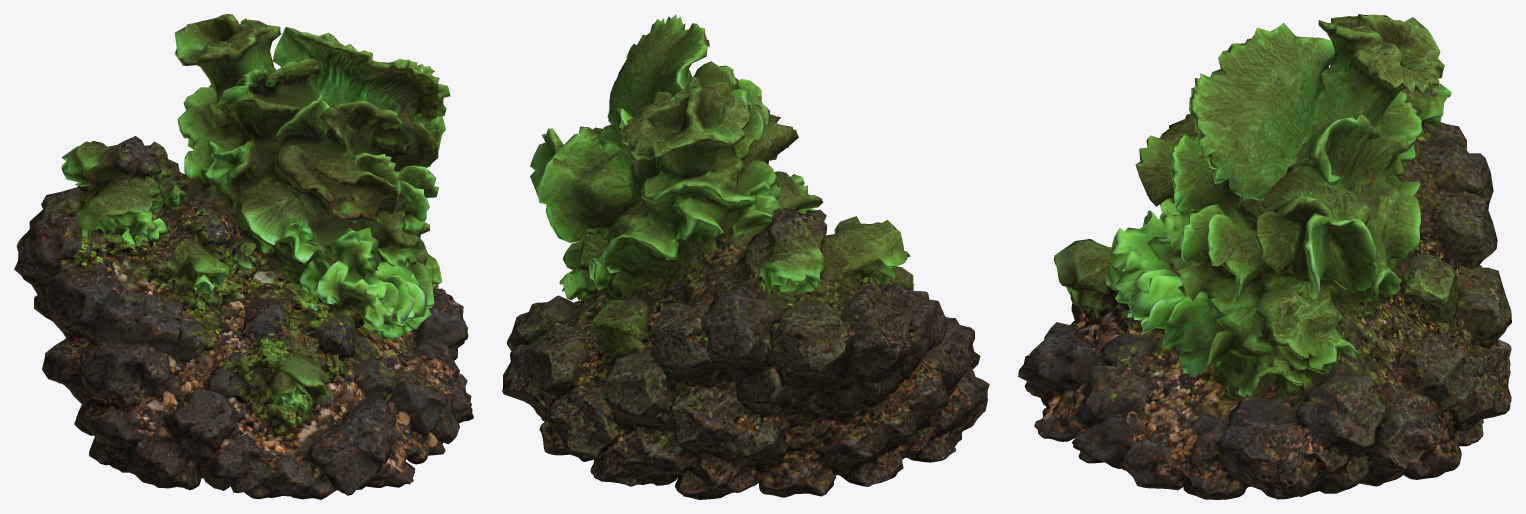
File: fungus.glb
3 renders of one model, left to right at view 1: azimuth 30°, elevation 25°; view 2: azimuth 150°, elevation 25°; view 3: azimuth 270°, elevation 25°, orthographic. The views are drawn at different scales.
Visible parts, largest first — view 1: tripo_node_480b64cd-11a0-45d5-8408-963ef7dd244e; view 2: tripo_node_480b64cd-11a0-45d5-8408-963ef7dd244e; view 3: tripo_node_480b64cd-11a0-45d5-8408-963ef7dd244e.
Boxes of the visible parts, bbox=[...] form: tripo_node_480b64cd-11a0-45d5-8408-963ef7dd244e: bbox=[14, 14, 473, 499]; tripo_node_480b64cd-11a0-45d5-8408-963ef7dd244e: bbox=[502, 14, 989, 499]; tripo_node_480b64cd-11a0-45d5-8408-963ef7dd244e: bbox=[1018, 14, 1511, 499].
Bounding box in the file's own units: 0.984 × 0.8701 × 0.929.
Materials: 1 (1 with a texture image).
